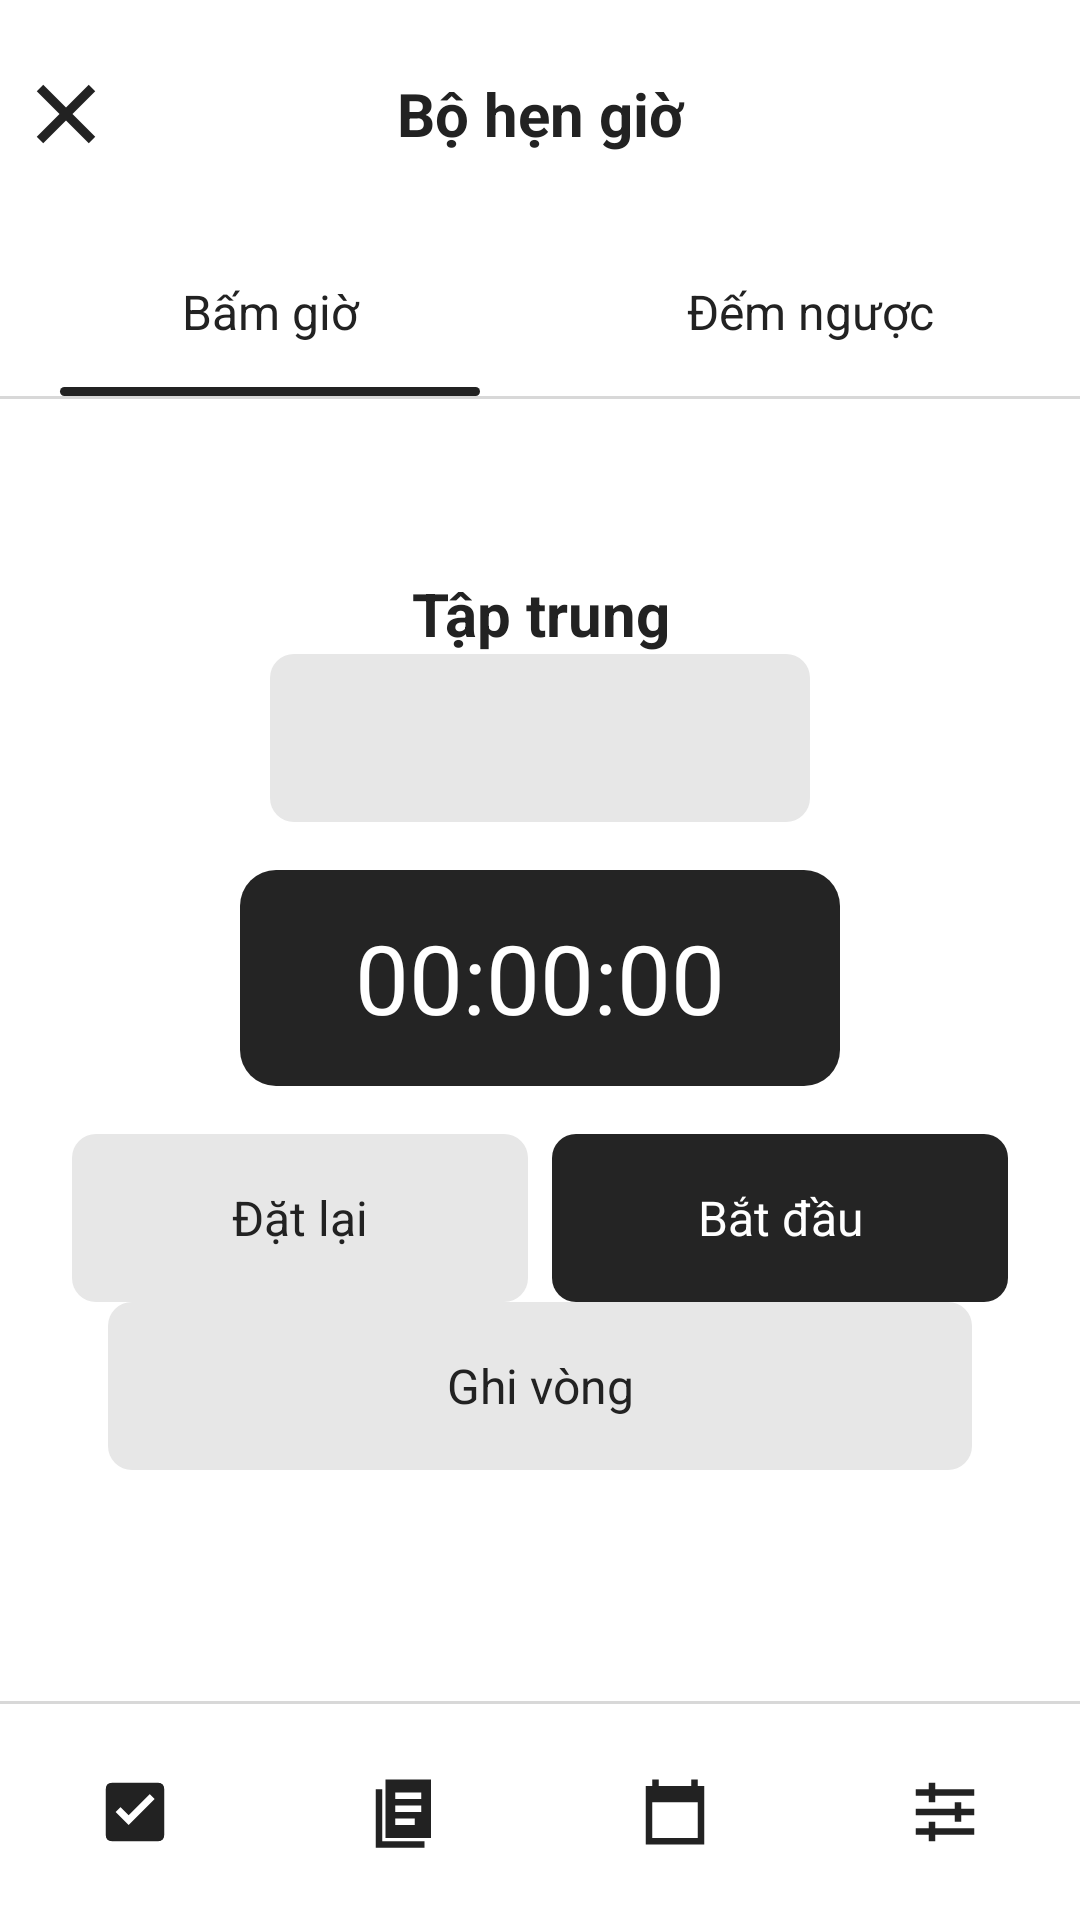

Where to tap for icons on this 1080x1920 app screen, as (x,y):
Cài đặt: (945,1812)
Công việc: (135,1812)
Lịch: (675,1812)
Nhật ký: (403,1813)
Đóng: (66,114)
